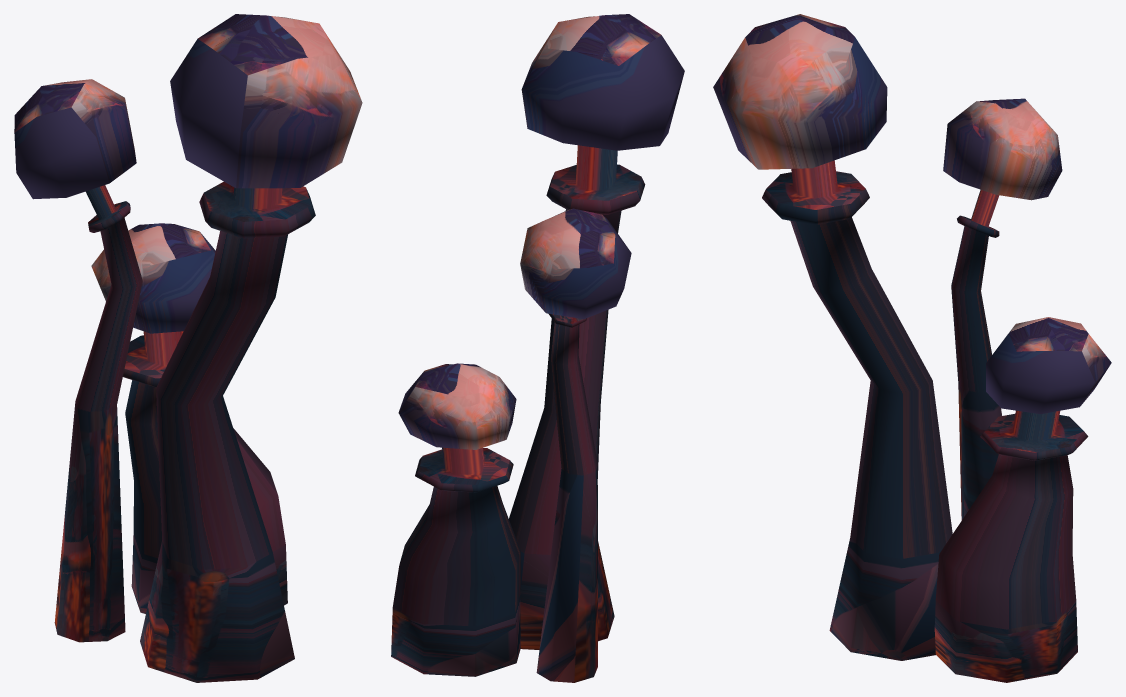
The model's file is mushroom_VAR1.fbx.
3 views of the same model, side by side, from view 1: azimuth 30°, elevation 25°; view 2: azimuth 150°, elevation 25°; view 3: azimuth 270°, elevation 25° (orthographic). The views are drawn at different scales.
Parts seen in each view (by area): view 1: Cylinder, Cube, Cylinder.002, Cube.001, Cylinder.001, Cube.002; view 2: Cylinder.001, Cube, Cylinder, Cylinder.002, Cube.001, Cube.002; view 3: Cylinder, Cylinder.001, Cube, Cylinder.002, Cube.001, Cube.002.
Part boxes in pixels (box(x1,y1,x2,y2)): Cylinder: box(140, 181, 315, 682); Cube: box(170, 14, 362, 188); Cylinder.002: box(54, 185, 142, 642); Cube.001: box(14, 79, 136, 199); Cylinder.001: box(123, 331, 287, 613); Cube.002: box(91, 223, 215, 333); Cylinder.001: box(391, 447, 520, 676); Cube: box(521, 14, 684, 150); Cylinder: box(509, 145, 645, 649); Cylinder.002: box(536, 313, 597, 682); Cube.001: box(520, 208, 631, 319); Cube.002: box(398, 363, 516, 449); Cylinder: box(762, 160, 952, 660); Cylinder.001: box(934, 410, 1088, 682); Cube: box(713, 14, 887, 169); Cylinder.002: box(951, 189, 1001, 520); Cube.001: box(943, 98, 1062, 200); Cube.002: box(986, 317, 1111, 414).
Bounding box in the file's own units: 535 × 1306 × 775.
